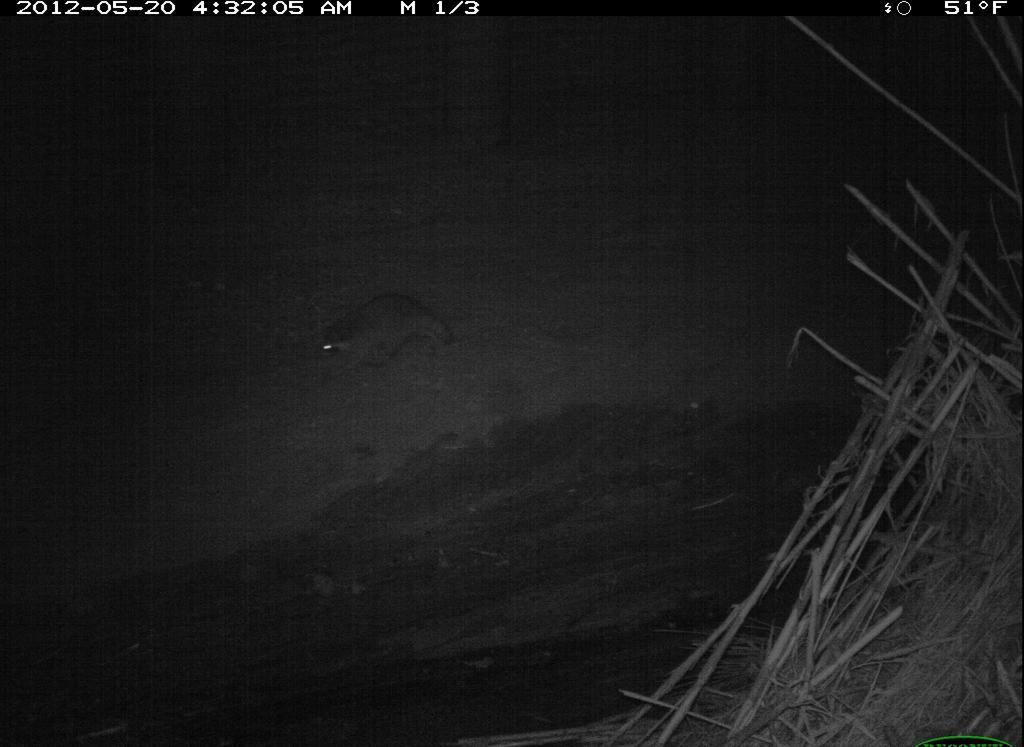raccoon: (299, 280, 461, 382)
